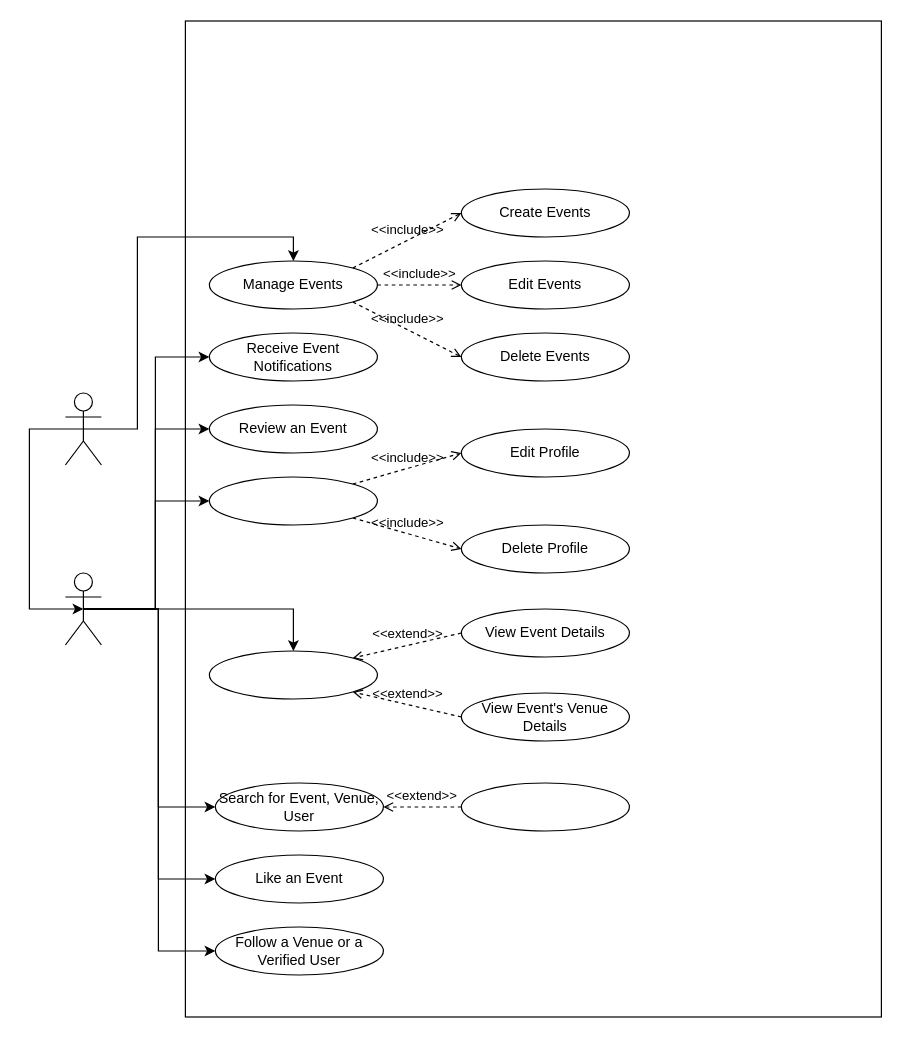
Some shapes in this 902 by 1038 pixel diagram are drawn without their labels. The box of each missing label's shape, as (x1, y1, x2, y2) in pixels:
Filter Available Events: (460, 782, 629, 831)
Manage Profile: (208, 476, 377, 525)
Registered User: (64, 572, 101, 645)
Verified User: (64, 392, 101, 465)
View Available Events: (208, 650, 377, 699)
